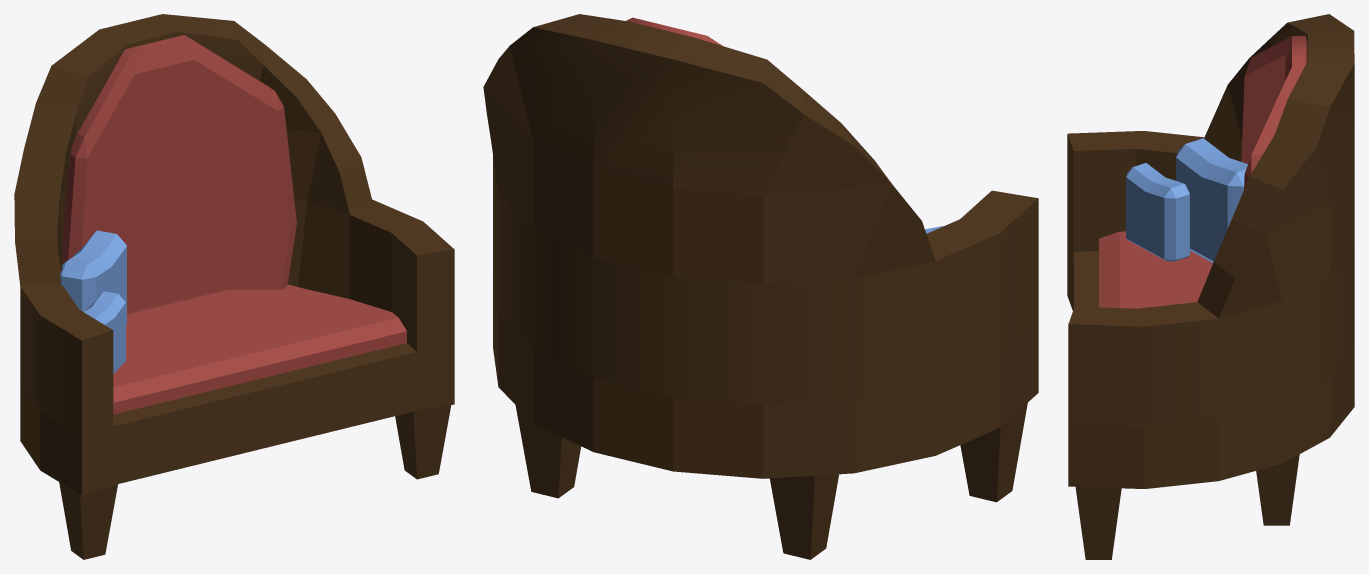
Rendered from geo_ArmChairwithPillows_02.fbx.
3 renders of one model, left to right at view 1: azimuth 30°, elevation 25°; view 2: azimuth 150°, elevation 25°; view 3: azimuth 270°, elevation 25°, orthographic. The views are drawn at different scales.
Visible parts, largest first — view 1: geo_ChairBase_01, geo_diningChairPillow_02, geo_diningChairPillow_01, geo_pillow_01, geo_ChairLeg_02, geo_ChairLeg_04, geo_pillow_07; view 2: geo_ChairBase_01, geo_ChairLeg_03, geo_ChairLeg_02, geo_ChairLeg_01; view 3: geo_ChairBase_01, geo_diningChairPillow_01, geo_pillow_01, geo_diningChairPillow_02, geo_pillow_07, geo_ChairLeg_04, geo_ChairLeg_01.
Boxes of the visible parts, x1,y1,x2,y2 form: geo_ChairBase_01: (14,14,454,495); geo_diningChairPillow_02: (62,35,296,312); geo_diningChairPillow_01: (113,284,406,414); geo_pillow_01: (59,230,126,325); geo_ChairLeg_02: (59,482,117,559); geo_ChairLeg_04: (395,405,451,479); geo_pillow_07: (84,291,125,373); geo_ChairBase_01: (483,14,1038,478); geo_ChairLeg_03: (769,474,838,559); geo_ChairLeg_02: (960,403,1027,502); geo_ChairLeg_01: (515,405,581,498); geo_ChairBase_01: (1067,14,1354,488); geo_diningChairPillow_01: (1099,231,1212,308); geo_pillow_01: (1176,138,1247,262); geo_diningChairPillow_02: (1241,36,1307,189); geo_pillow_07: (1126,163,1190,261); geo_ChairLeg_04: (1075,482,1121,559); geo_ChairLeg_01: (1256,454,1299,525).
Bounding box in the file's own units: 74.04 × 74.23 × 45.86.
